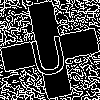U: (25, 25, 71, 78)
